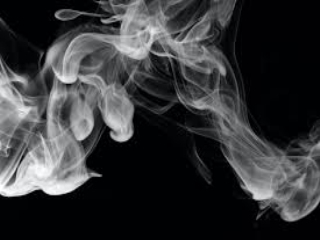smoke: (6, 24, 307, 208)
